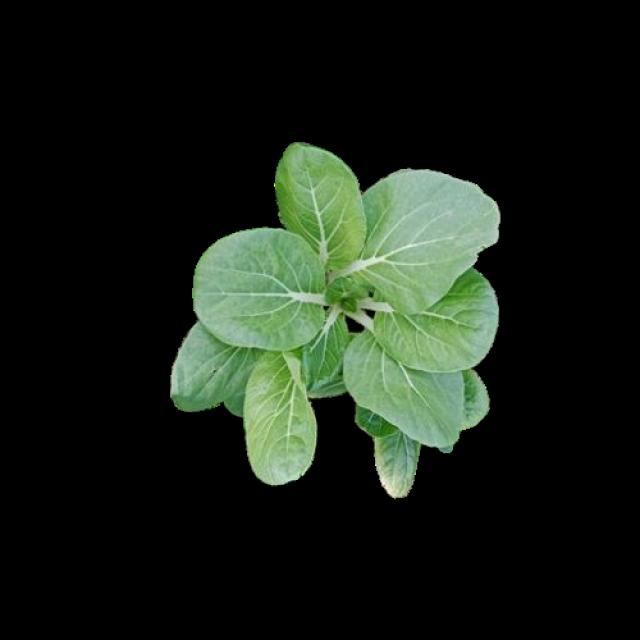healthy: (168, 145, 502, 504)
not-mature: (165, 142, 499, 502)
